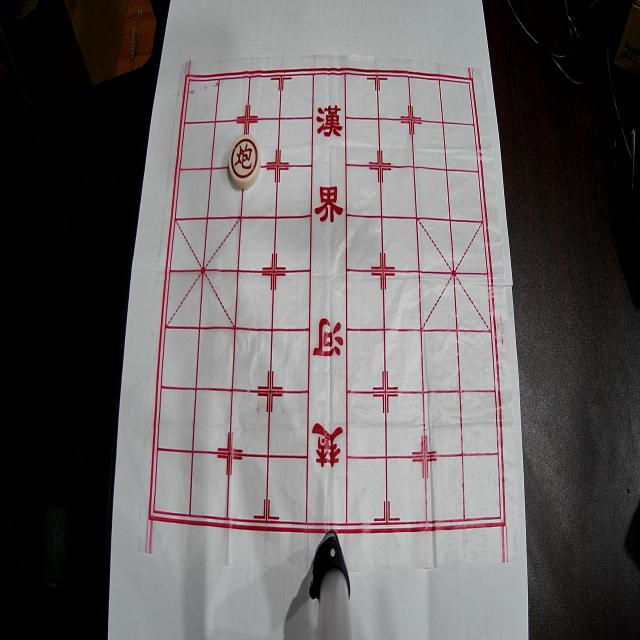red-cannon: (229, 135, 261, 189)
